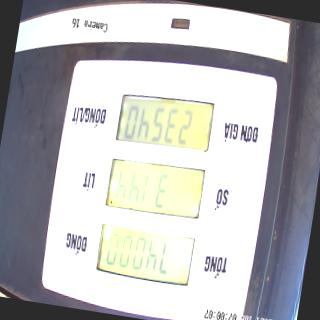screen: (92, 86, 218, 290)
